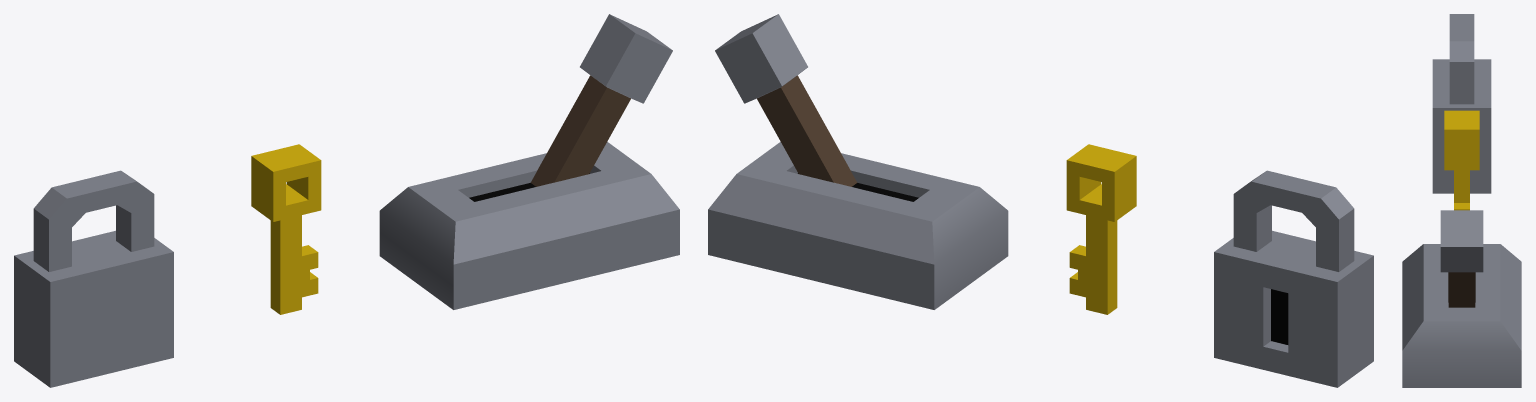
The model's file is props-interactions.fbx.
3 views of the same model, side by side, from view 1: azimuth 30°, elevation 25°; view 2: azimuth 150°, elevation 25°; view 3: azimuth 270°, elevation 25° (orthographic). The views are drawn at different scales.
Parts seen in each view (by area): view 1: Lever-Base, Lock, Lever-Handle, Key; view 2: Lever-Base, Lock, Lever-Handle, Key; view 3: Lever-Base, Lock, Lever-Handle, Key.
Boxes of the visible parts, x1,y1,x2,y2 form: Lever-Base: [379, 142, 679, 309]; Lock: [14, 170, 173, 387]; Lever-Handle: [530, 14, 672, 186]; Key: [251, 144, 321, 314]; Lever-Base: [708, 142, 1008, 309]; Lock: [1214, 170, 1373, 387]; Lever-Handle: [715, 14, 857, 186]; Key: [1066, 144, 1136, 314]; Lever-Base: [1402, 244, 1521, 387]; Lock: [1432, 14, 1491, 193]; Lever-Handle: [1440, 210, 1483, 307]; Key: [1444, 110, 1479, 210].
Size of the model in its own units: 334 by 107 by 68.14.
